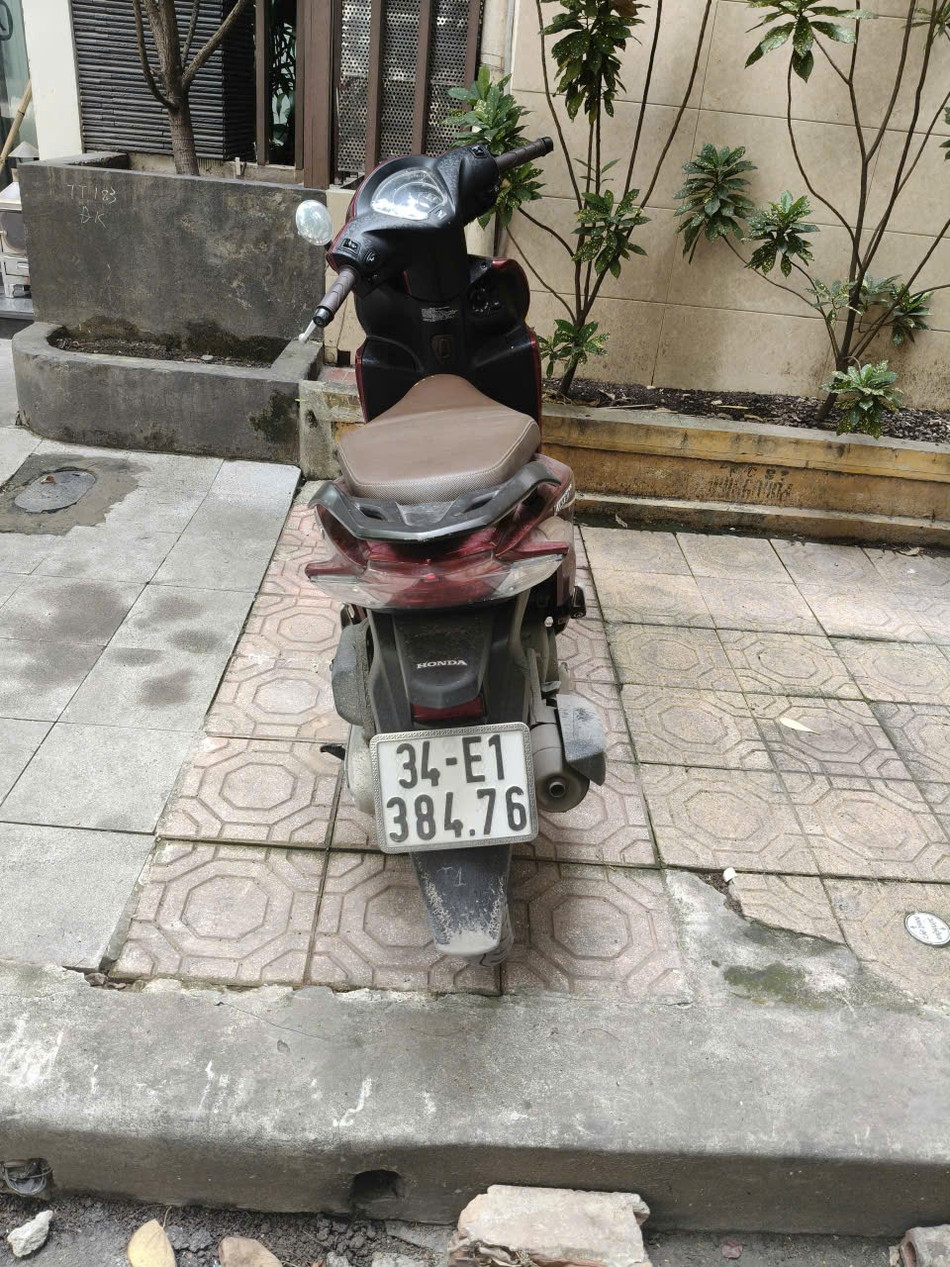plate: (248, 581, 387, 626)
